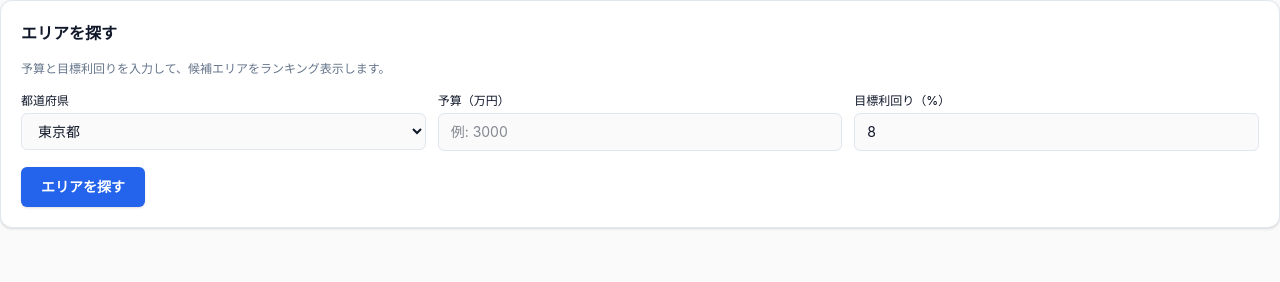
it: AreaDiscovery › 検索結果が0件のとき「データが見つかりませんでした」が表示される
Step 1. Click the button "エリアを探す" → (83, 187), box [21,167,145,207]
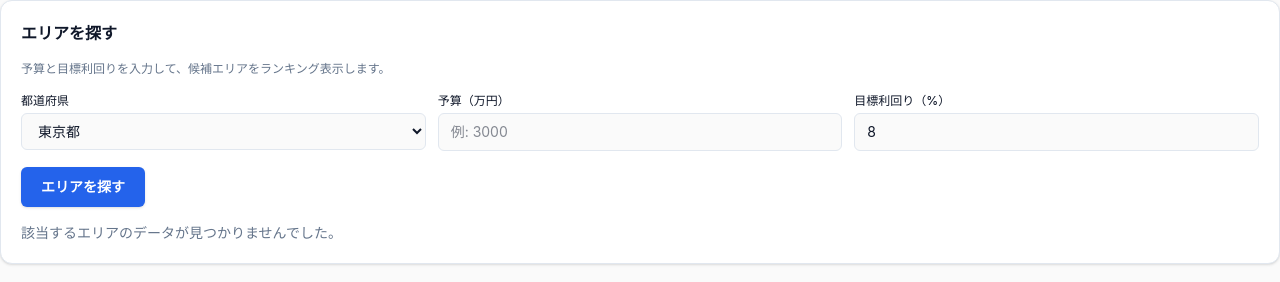
Check: the text "該当するエリアのデータが見つかりませんでした。" is shown, box [21,224,342,241]
